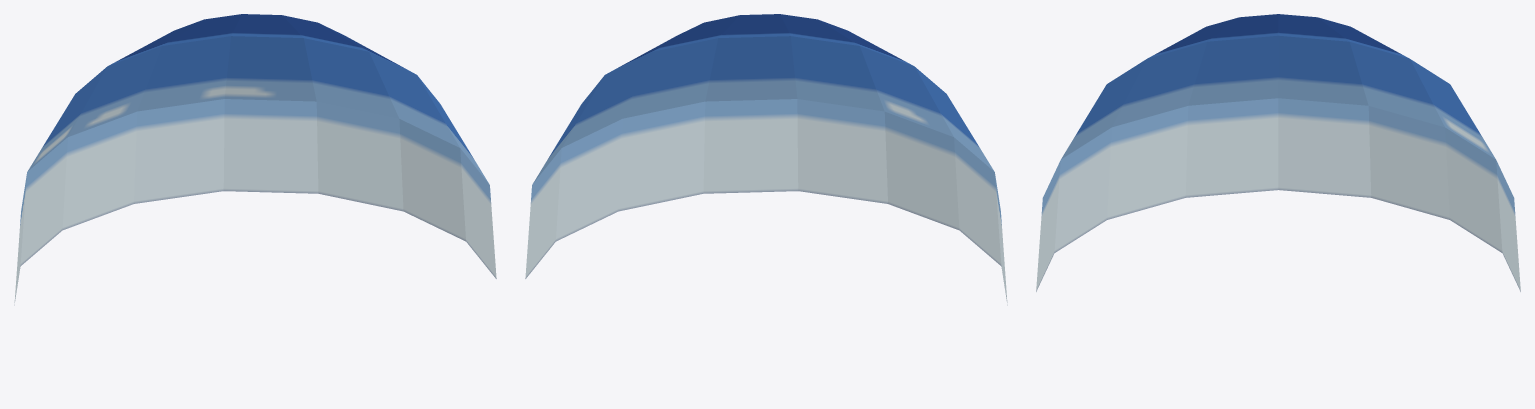
The model's file is wsky.dome.glb.
3 renders of one model, left to right at view 1: azimuth 30°, elevation 25°; view 2: azimuth 150°, elevation 25°; view 3: azimuth 270°, elevation 25°, orthographic.
Parts seen in each view (by area): view 1: kit_shell_sky; view 2: kit_shell_sky; view 3: kit_shell_sky.
Boxes of the visible parts, x1,y1,x2,y2 form: kit_shell_sky: [14, 14, 496, 305]; kit_shell_sky: [525, 14, 1007, 305]; kit_shell_sky: [1036, 14, 1520, 291].
Bounding box in the file's own units: 791 × 460 × 791.
Materials: 1 (1 with a texture image).
